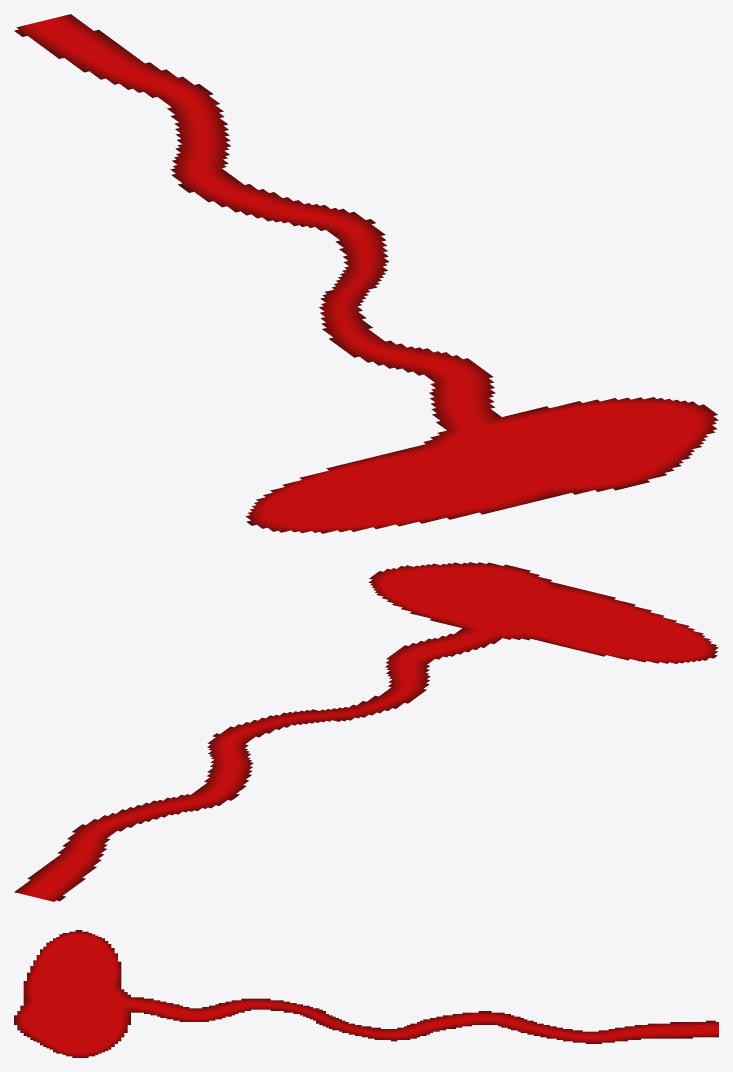
The model's file is enfeite_agua_do_mundo.glb.
3 renders of one model, top to bottom at view 1: azimuth 30°, elevation 25°; view 2: azimuth 150°, elevation 25°; view 3: azimuth 270°, elevation 25°, orthographic. The views are drawn at different scales.
Parts seen in each view (by area): view 1: enfeite_agua_do_mundo; view 2: enfeite_agua_do_mundo; view 3: enfeite_agua_do_mundo.
Part boxes in pixels (x1,y1,x2,y2): enfeite_agua_do_mundo: [14, 14, 718, 533]; enfeite_agua_do_mundo: [14, 562, 718, 901]; enfeite_agua_do_mundo: [14, 930, 718, 1057].
Size of the model in its own units: 46.5 by 0 by 108.
